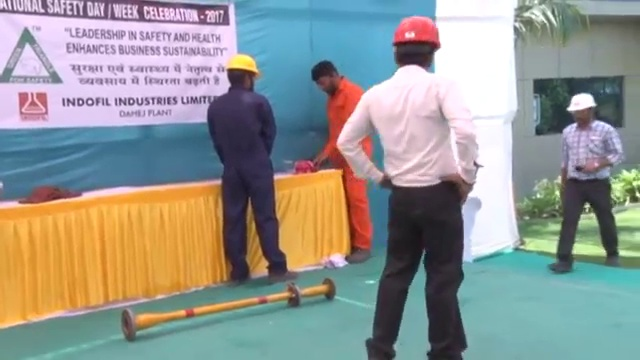helmet: (391, 14, 442, 50), (224, 53, 261, 77), (564, 92, 598, 113)
helmet_off: (309, 57, 345, 99)
helmet_on: (390, 11, 445, 73), (222, 51, 262, 95), (562, 90, 600, 131)
person: (337, 14, 481, 360), (206, 50, 301, 284), (307, 53, 376, 265), (555, 92, 621, 271)
